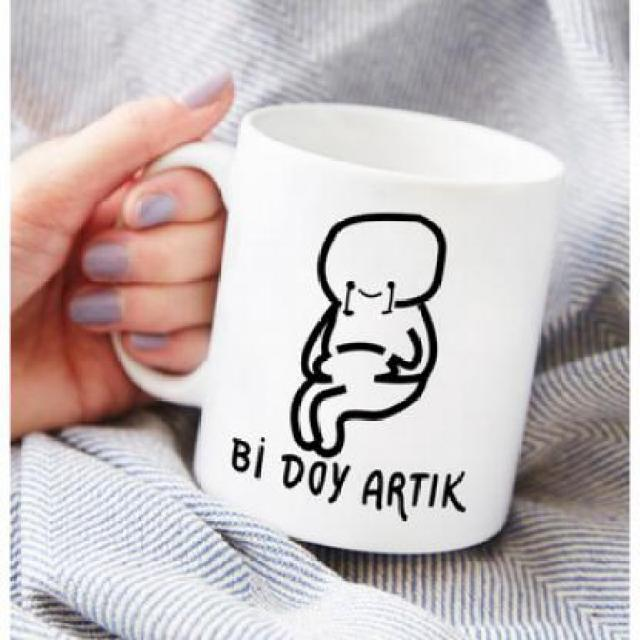taza: (105, 92, 602, 560)
